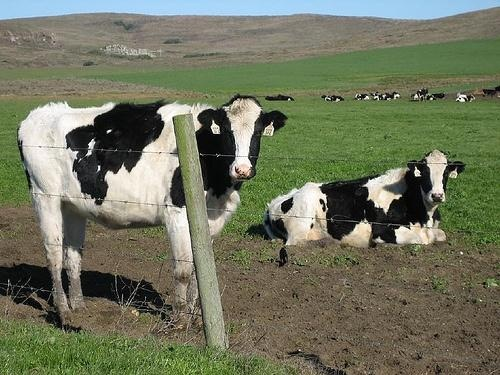cow: (17, 96, 288, 330), (265, 150, 467, 248)
